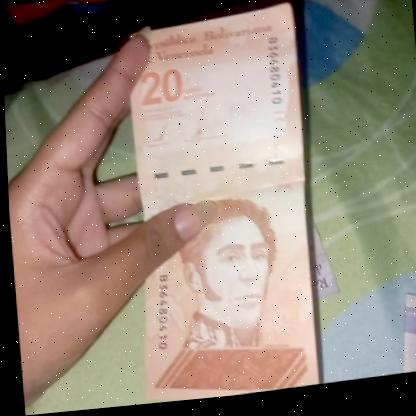twenty-front-vef: (115, 6, 317, 407)
